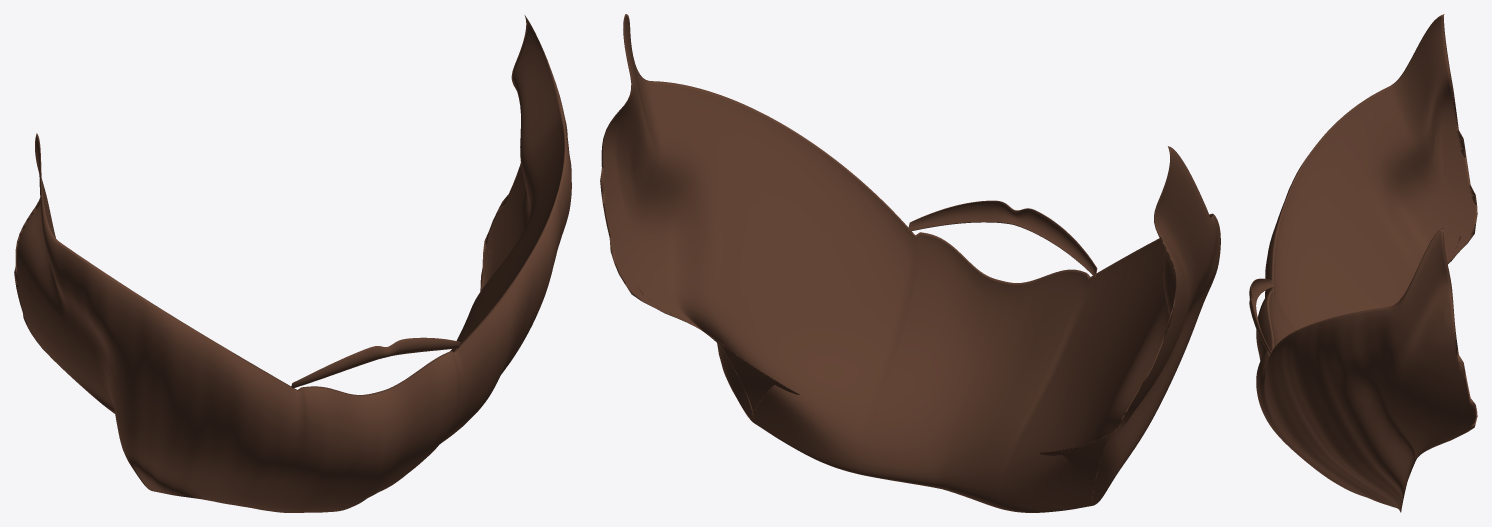
The model's file is Masculine-groom-long.glb.
3 views of the same model, side by side, from view 1: azimuth 30°, elevation 25°; view 2: azimuth 150°, elevation 25°; view 3: azimuth 270°, elevation 25° (orthographic). The views are drawn at different scales.
Parts seen in each view (by area): view 1: Groom / rounded long188, Groom / shared mustache185; view 2: Groom / rounded long188, Groom / shared mustache185; view 3: Groom / rounded long188, Groom / shared mustache185.
Boxes of the visible parts, x1=… form: Groom / rounded long188: x1=14, y1=15, x2=571, y2=512; Groom / shared mustache185: x1=291, y1=337, x2=460, y2=388; Groom / rounded long188: x1=600, y1=14, x2=1220, y2=512; Groom / shared mustache185: x1=908, y1=200, x2=1097, y2=277; Groom / rounded long188: x1=1256, y1=14, x2=1477, y2=512; Groom / shared mustache185: x1=1249, y1=278, x2=1274, y2=354.
Bounding box in the file's own units: 0.9241 × 0.6809 × 0.393.
